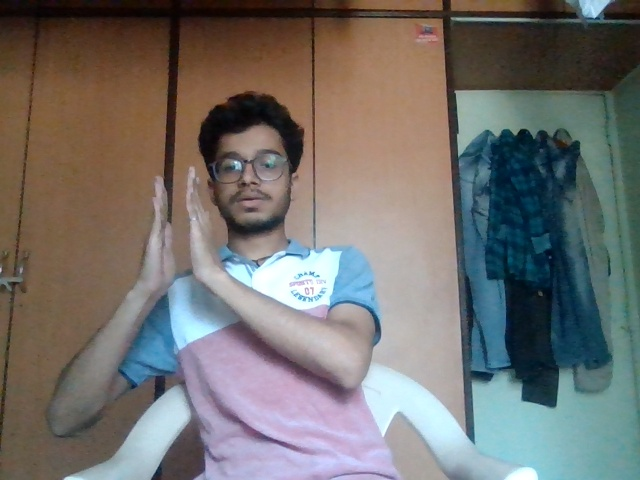morning: (107, 161, 260, 314)
